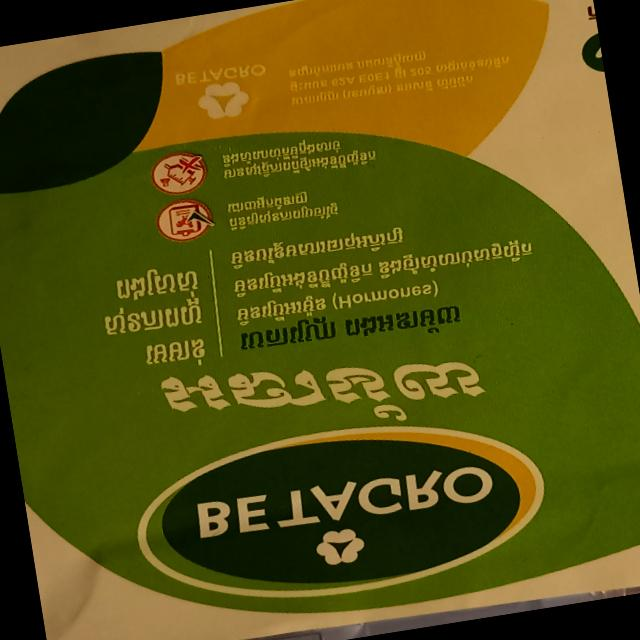1: (233, 235, 540, 302), (236, 303, 462, 353)
Yolov11kh: (157, 360, 487, 434), (226, 223, 409, 273), (221, 130, 381, 182), (223, 190, 341, 234), (102, 296, 207, 339), (111, 262, 209, 306), (234, 293, 326, 329), (138, 336, 207, 369)
